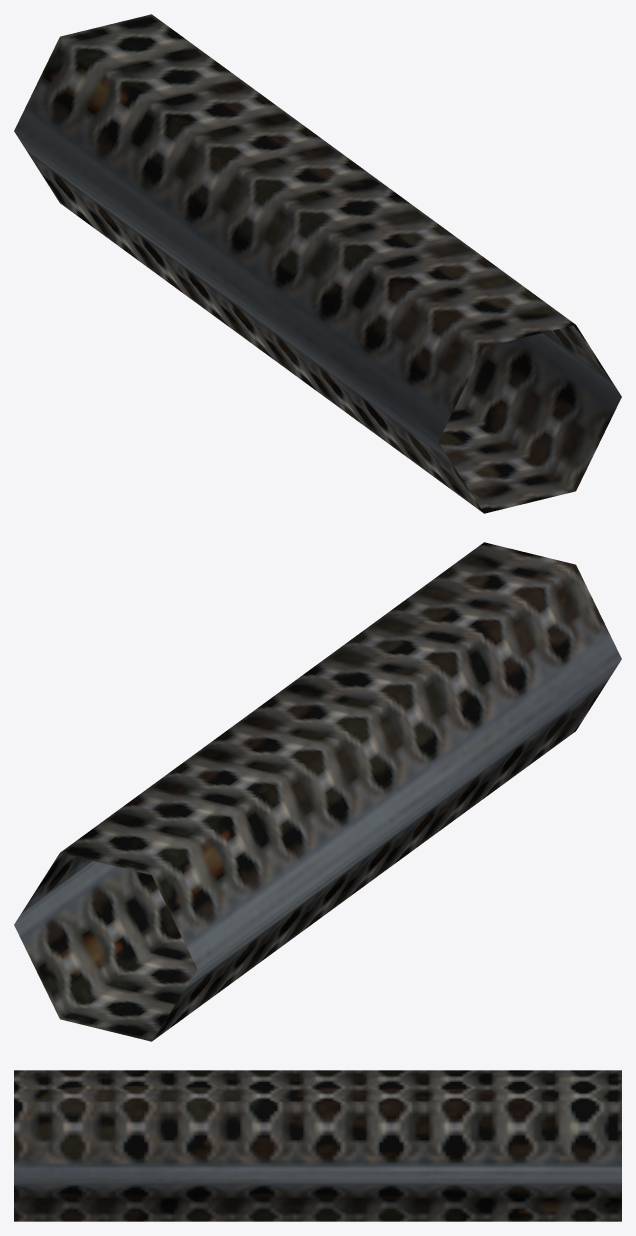
Rendered from small_mesh_1.fbx.
3 views of the same model, one above another, from view 1: azimuth 30°, elevation 25°; view 2: azimuth 150°, elevation 25°; view 3: azimuth 270°, elevation 25° (orthographic). The views are drawn at different scales.
Visible parts, largest first — view 1: allPipes:pCylinder15; view 2: allPipes:pCylinder15; view 3: allPipes:pCylinder15.
Boxes of the visible parts, left/top/right/bottom form: allPipes:pCylinder15: left=14, top=14, right=621, bottom=513; allPipes:pCylinder15: left=14, top=542, right=621, bottom=1041; allPipes:pCylinder15: left=14, top=1070, right=621, bottom=1221.
Bounding box in the file's own units: 0.25 × 0.2165 × 1.
